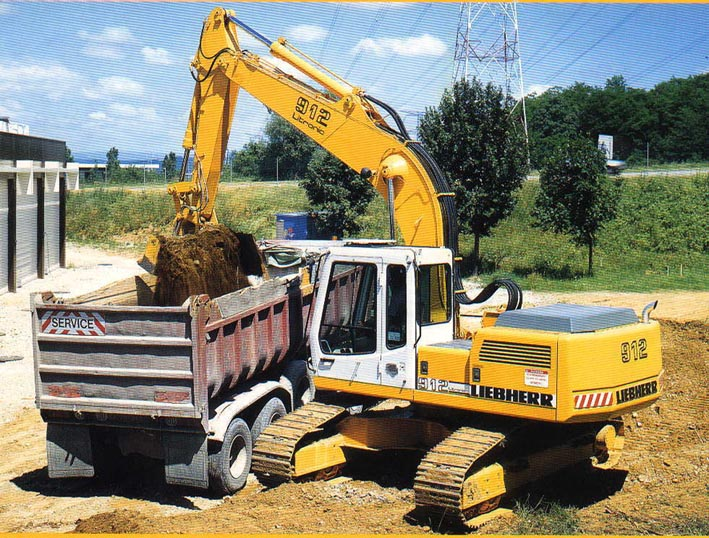backhoe: (168, 9, 669, 523)
truck: (38, 230, 373, 501)
